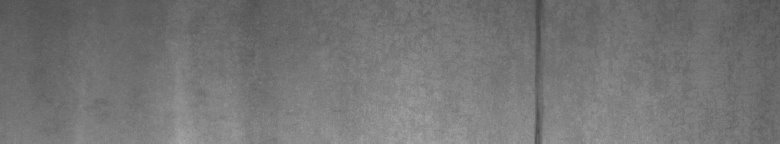hd: (528, 4, 548, 136)
